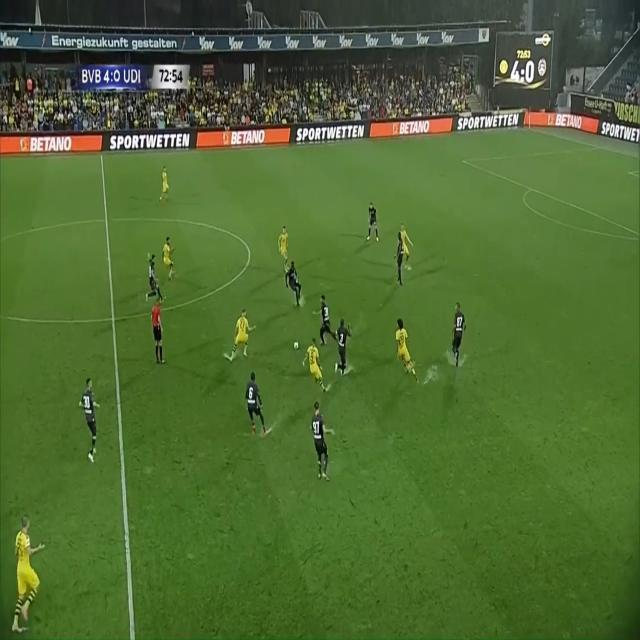ball: (284, 334, 302, 352)
player: (4, 511, 46, 639), (214, 307, 259, 375), (389, 313, 425, 394), (75, 374, 109, 457), (305, 400, 335, 489), (245, 365, 271, 445), (448, 288, 467, 371), (334, 320, 356, 380), (283, 260, 308, 308), (144, 251, 164, 306), (316, 290, 336, 344), (365, 187, 381, 254), (305, 339, 326, 390), (401, 216, 417, 278), (162, 231, 178, 281), (157, 165, 175, 203), (278, 222, 292, 270), (394, 231, 406, 287)
referee: (145, 287, 169, 367)
